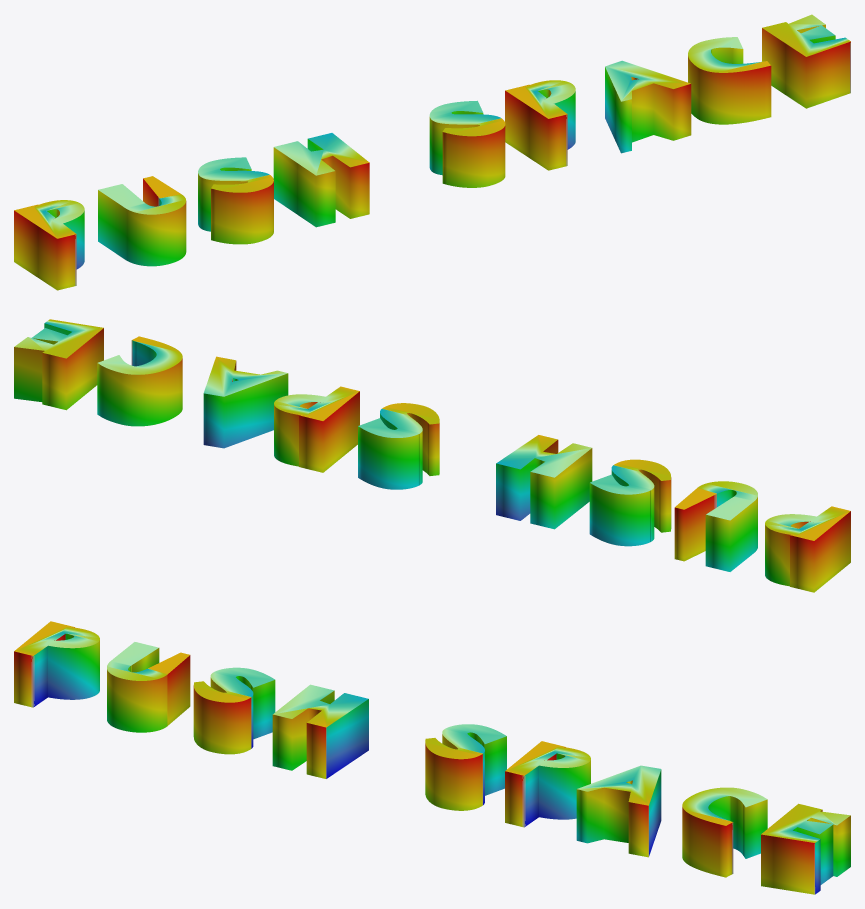
The model's file is PushSpace.obj.
3 views of the same model, one above another, from view 1: azimuth 30°, elevation 25°; view 2: azimuth 150°, elevation 25°; view 3: azimuth 330°, elevation 25° (orthographic).
Parts seen in each view (by area): view 1: テキスト; view 2: テキスト; view 3: テキスト.
Part boxes in pixels (x1,y1,x2,y2): テキスト: [14, 14, 850, 290]; テキスト: [14, 319, 850, 592]; テキスト: [14, 621, 850, 894].
Bounding box in the file's own units: 8.11 × 0.5 × 0.7417.
1 material, 1 textured.
